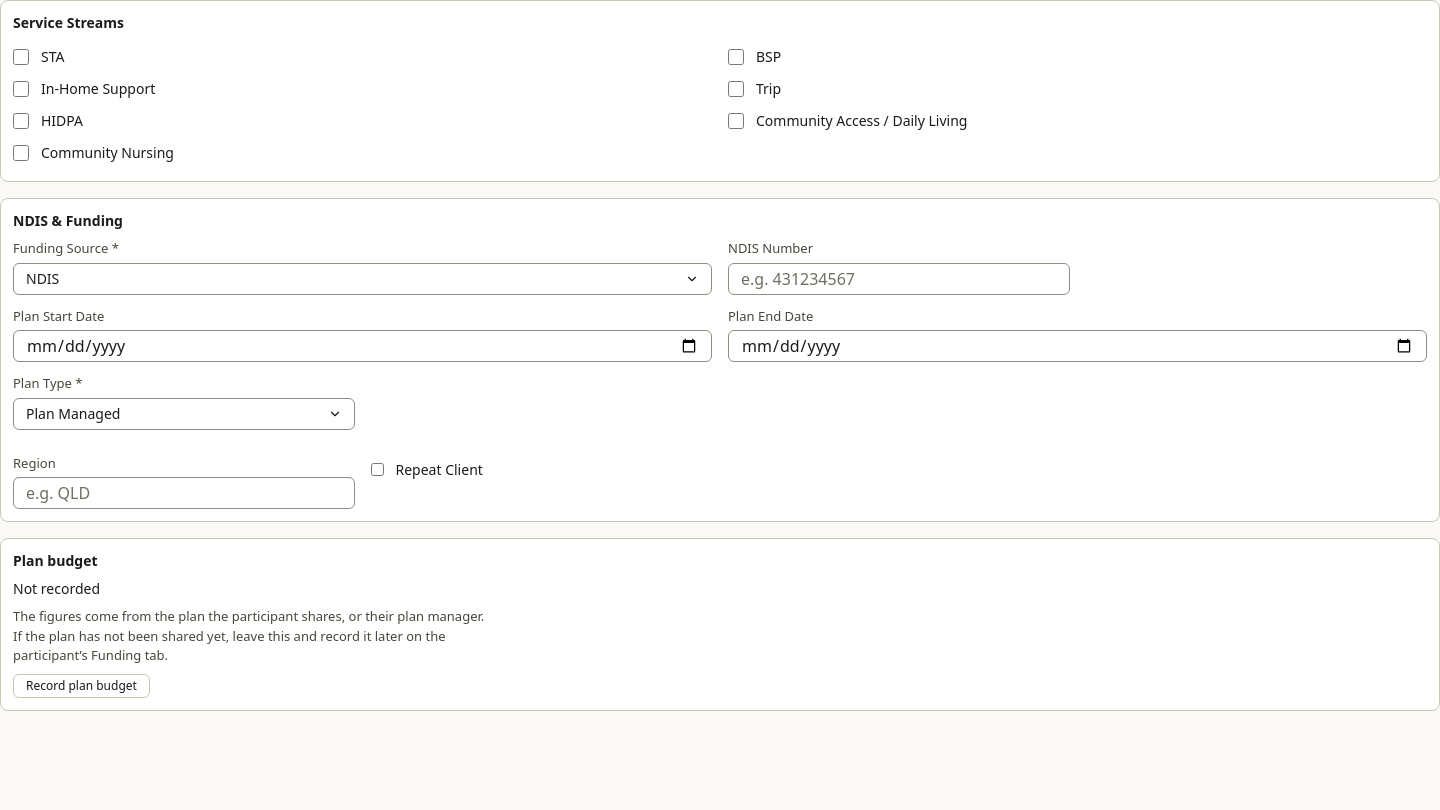
Scenario: Intake NDIS & Funding step: the plan budget card › offers to record the budget once the participant exists, and "Plan not shared yet" simply closes the editor without saving
The width and height of the screenshot is (1440, 810).
Expected: the text "Not recorded" is shown, [13,579,100,599]
Click the button "Record plan budget" at [81, 686], box [13,674,150,698]
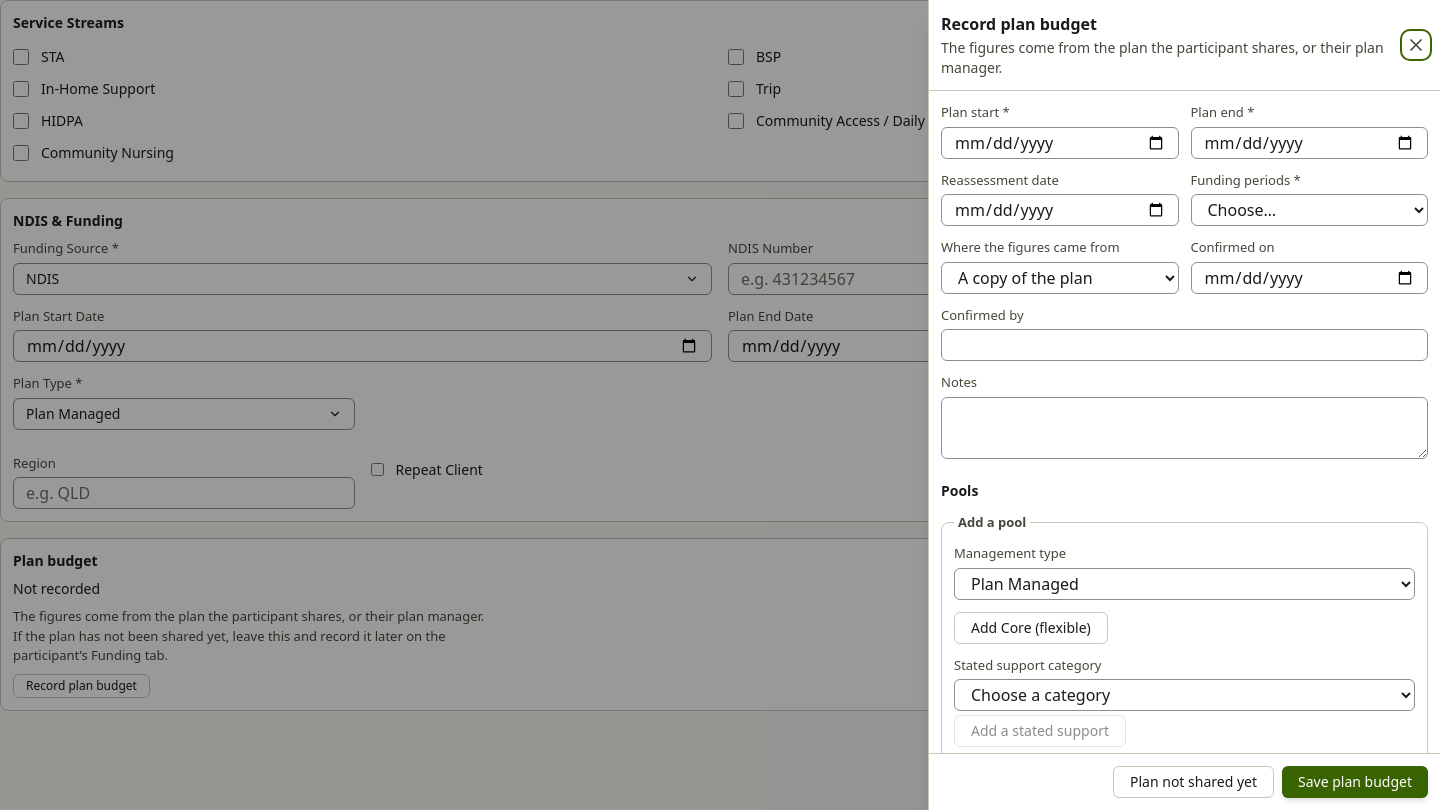
Result: the dialog "Record plan budget" is shown at [928,0,1439,809]
Click the button "Plan not shared yet" at [1194, 782], box [1113,766,1274,798]
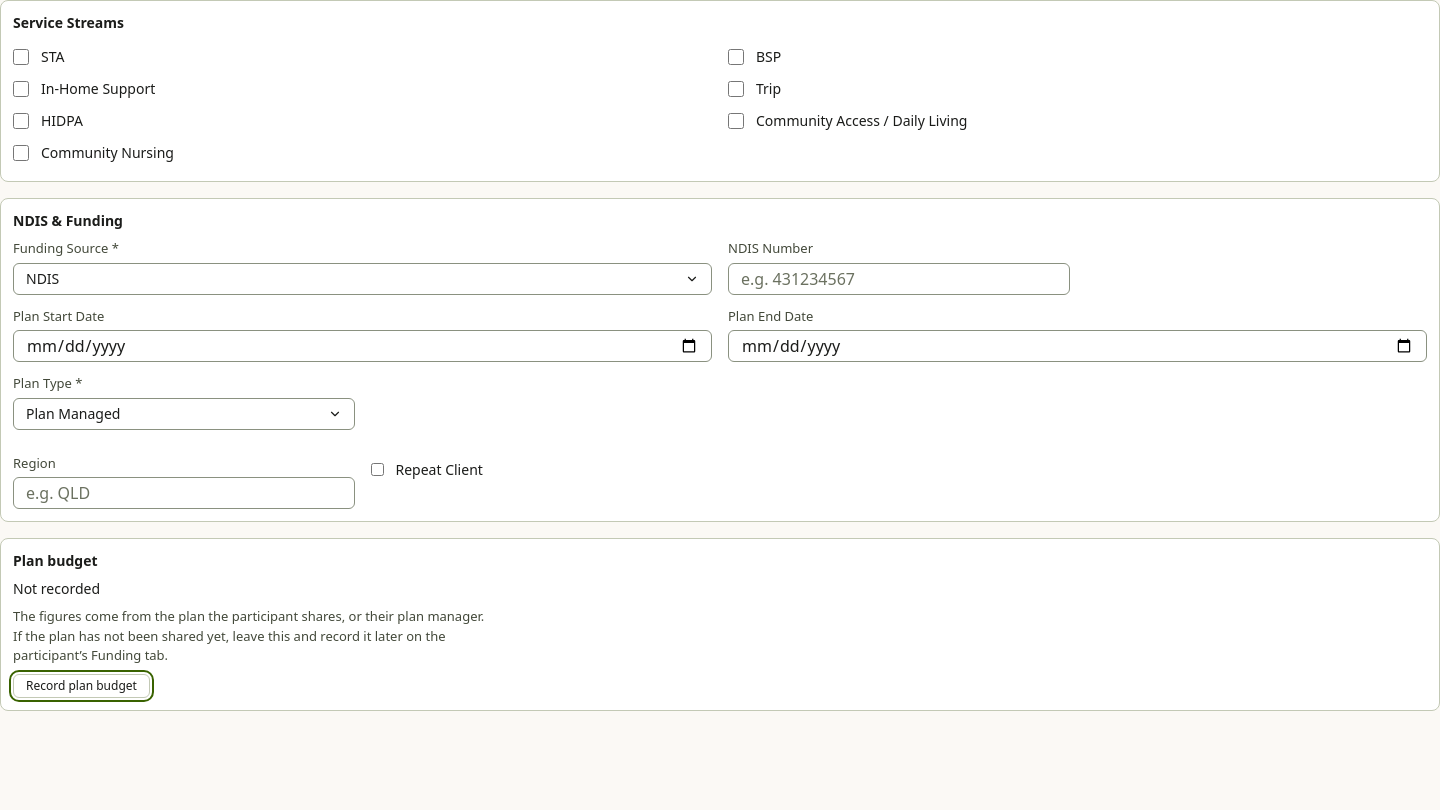
Expected: the text "Not recorded" is shown, [13,579,100,599]
Result: the dialog is gone
